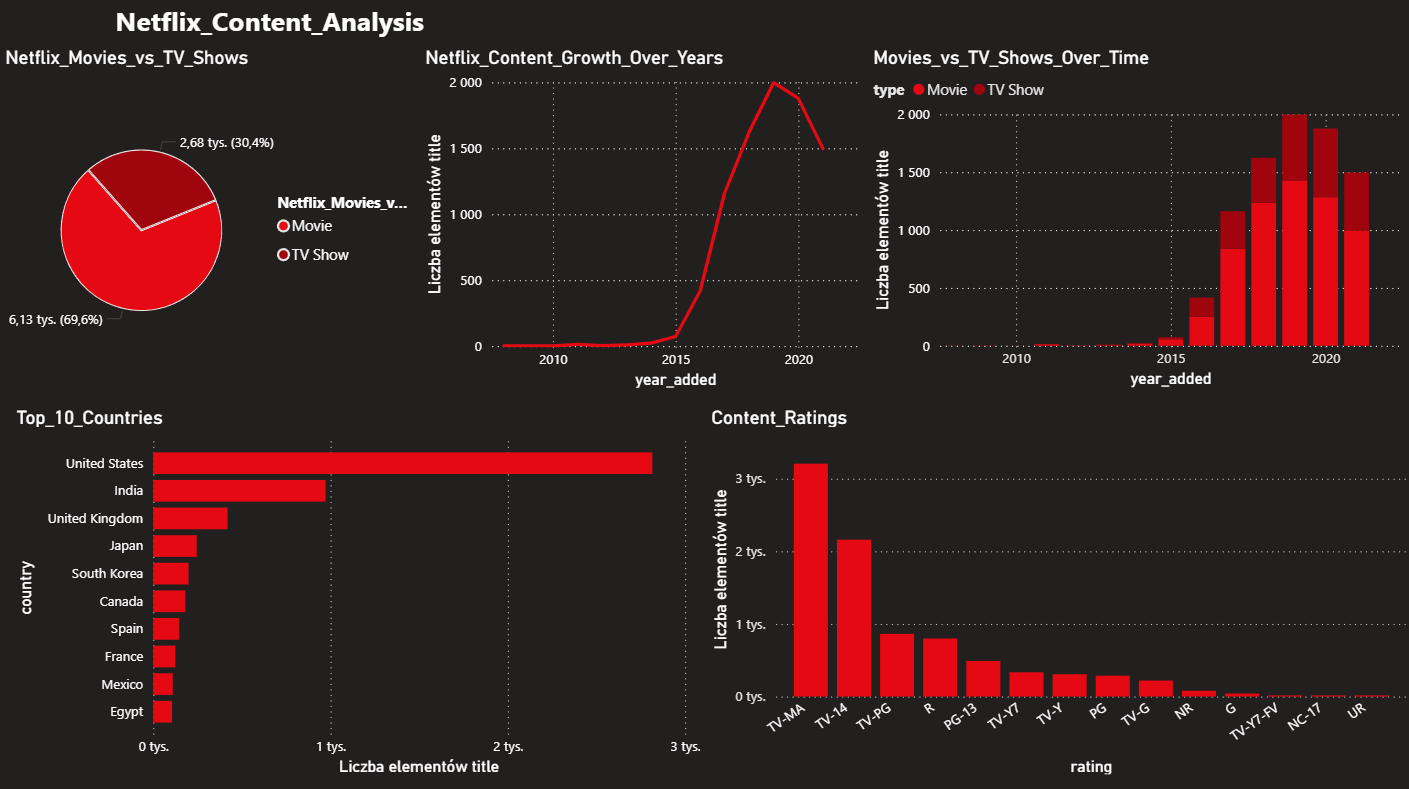

What the dashboard file says about the page in this screenshot:
{"tool":"powerbi","page":{"name":"Strona 1","canvas":[1280,720],"ordinal":0},"visuals":[{"type":"pieChart","title":"Netflix_Movies_vs_TV_Shows","fields":{"Category":["Sheet1.type"],"Y":["CountNonNull(Sheet1.type)"]},"box":[0,44.7,374.5,315.1],"z":0},{"type":"lineChart","title":"Netflix_Content_Growth_Over_Years","fields":{"Category":["Sheet1.year_added"],"Y":["CountNonNull(Sheet1.title)"]},"box":[381.3,44.7,405.6,315.1],"z":1000},{"type":"barChart","title":"Top_10_Countries","fields":{"Category":["Sheet1.country"],"Y":["CountNonNull(Sheet1.title)"]},"box":[9.7,370.6,630.3,339.5],"z":2000},{"type":"columnChart","title":"Content_Ratings","fields":{"Category":["Sheet1.rating"],"Y":["CountNonNull(Sheet1.title)"]},"box":[640,370.6,640,339.5],"z":3000},{"type":"columnChart","title":"Movies_vs_TV_Shows_Over_Time","fields":{"Category":["Sheet1.year_added"],"Y":["CountNonNull(Sheet1.title)"],"Series":["Sheet1.type"]},"box":[786.9,44.7,490.2,315.1],"z":4000},{"type":"textbox","box":[100.2,0,290.8,44.7],"z":5000},{"type":"qnaVisual","box":[0,0,150,150],"z":5001}]}

Visuals, with their boxes in screenshot pixels (x1, y1, x2, y2), scaled from the page's 1280x720 canvas onto the 1409x789 screenshot:
"Netflix_Movies_vs_TV_Shows" pieChart: [left=0, top=49, right=412, bottom=394]
"Netflix_Content_Growth_Over_Years" lineChart: [left=420, top=49, right=866, bottom=394]
"Top_10_Countries" barChart: [left=11, top=406, right=704, bottom=778]
"Content_Ratings" columnChart: [left=704, top=406, right=1408, bottom=778]
"Movies_vs_TV_Shows_Over_Time" columnChart: [left=866, top=49, right=1406, bottom=394]
textbox: [left=110, top=0, right=430, bottom=49]
qnaVisual: [left=0, top=0, right=165, bottom=164]
